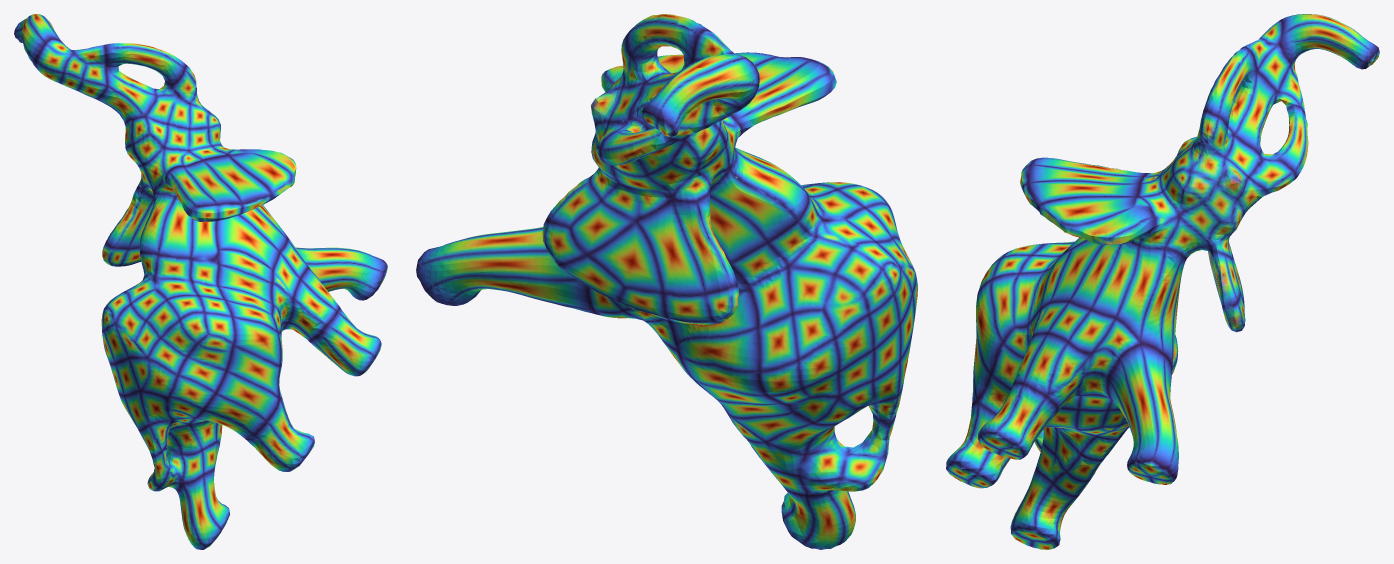
File: gen1.glb
3 views of the same model, side by side, from view 1: azimuth 30°, elevation 25°; view 2: azimuth 150°, elevation 25°; view 3: azimuth 270°, elevation 25° (orthographic). The views are drawn at different scales.
Visible parts, largest first — view 1: Node; view 2: Node; view 3: Node.
Boxes of the visible parts, x1,y1,x2,y2 form: Node: [14, 14, 387, 549]; Node: [416, 14, 917, 549]; Node: [946, 14, 1379, 549].
Bounding box in the file's own units: 0.7021 × 0.9675 × 0.745.
1 material, 1 textured.
